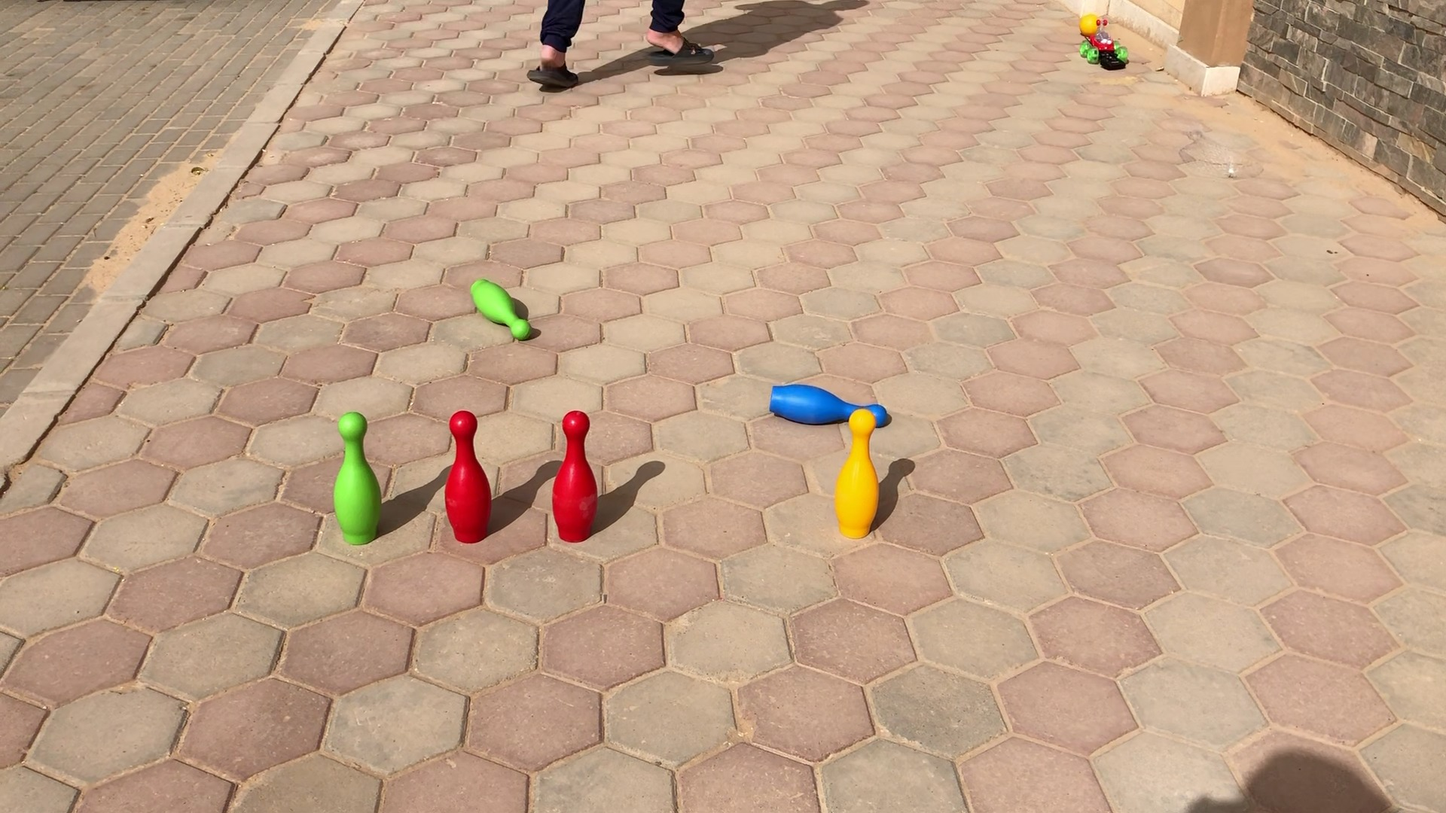bowling-pin: (758, 371, 895, 436), (444, 411, 493, 544), (334, 411, 383, 541), (550, 410, 596, 541), (835, 406, 880, 536), (471, 281, 534, 339)
